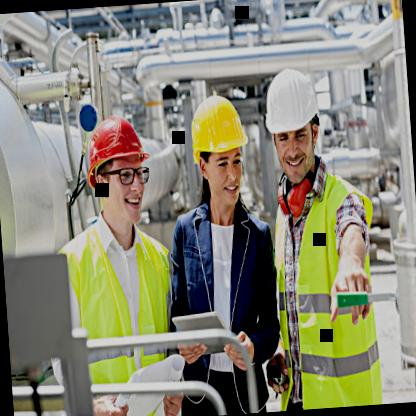helmet: (181, 72, 260, 218), (78, 99, 158, 236), (251, 51, 330, 188), (82, 347, 152, 416)
